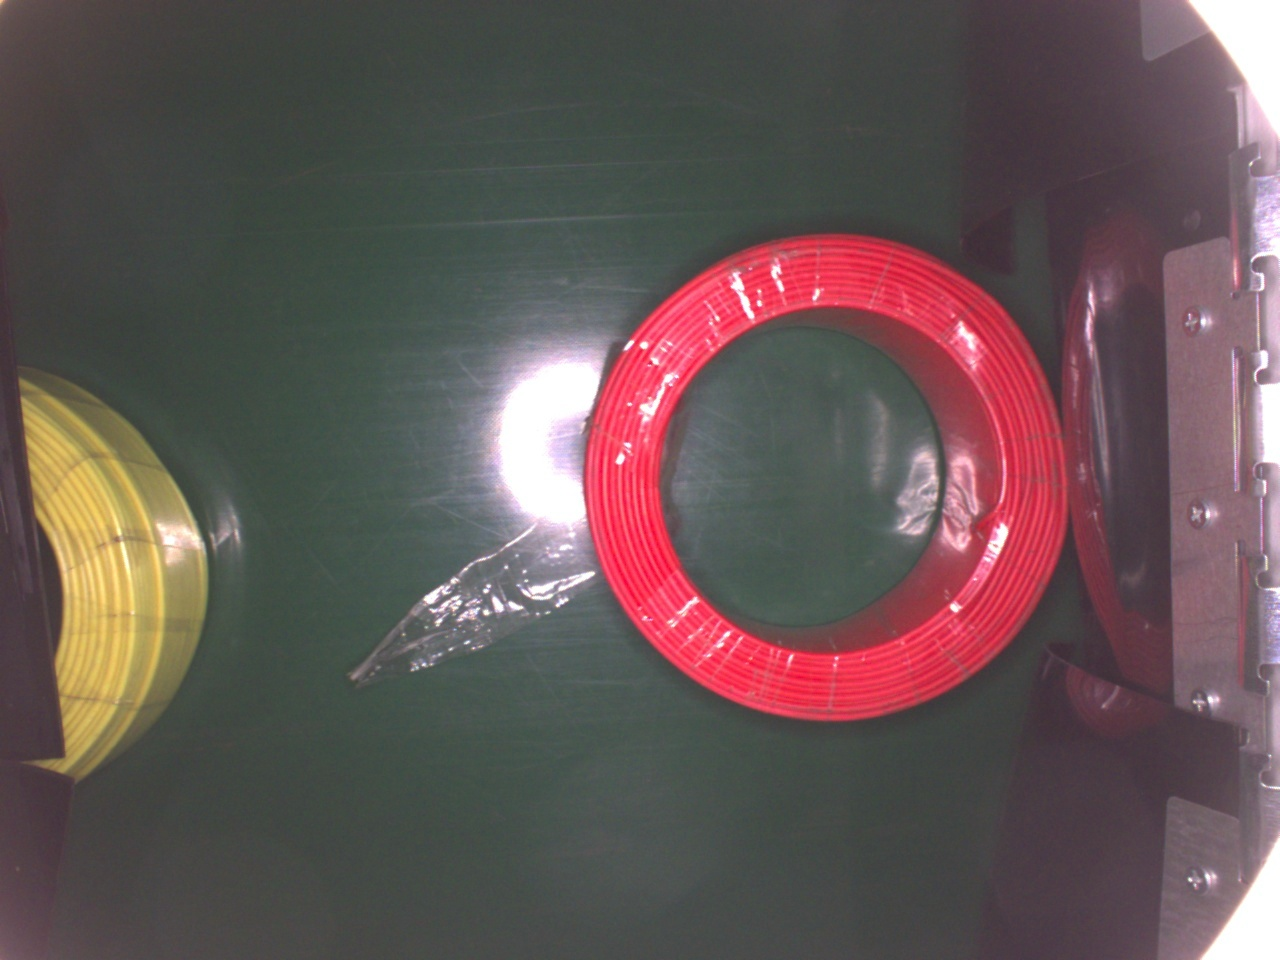red: (580, 227, 1071, 726)
yellow: (15, 355, 213, 783)
